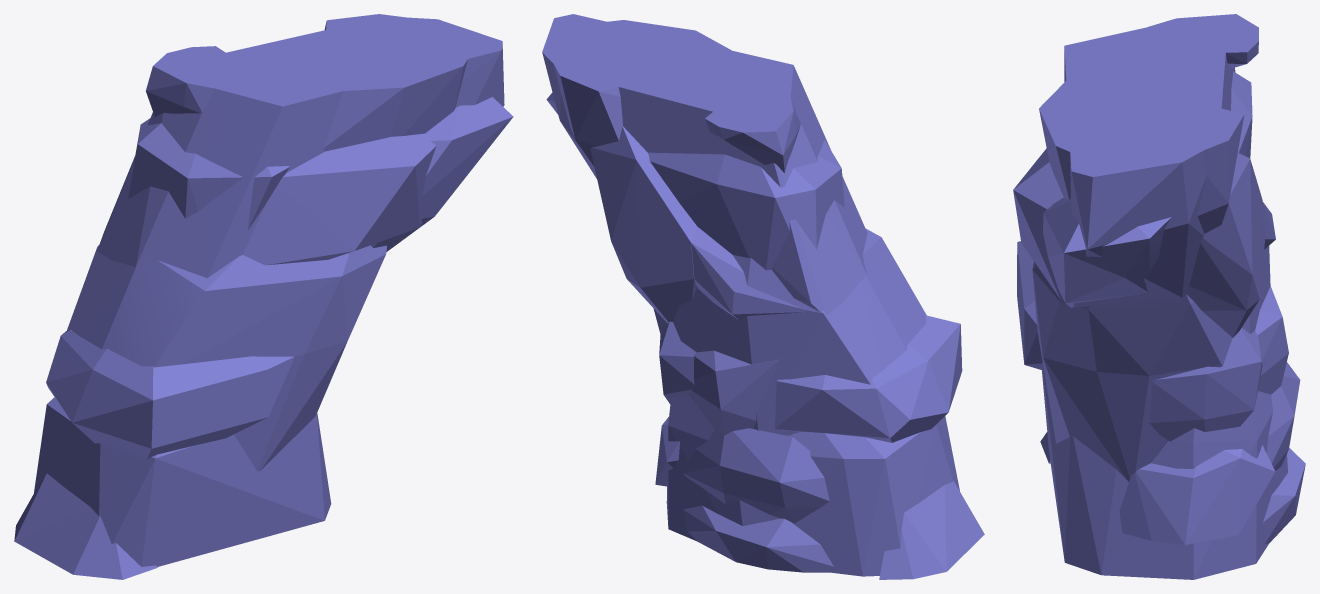
File: Cliff_Plateau_03_Arch_Collider_01.FBX
The picture shows the model from 3 angles, left to right: view 1: azimuth 30°, elevation 25°; view 2: azimuth 150°, elevation 25°; view 3: azimuth 270°, elevation 25°; orthographic projection. The views are drawn at different scales.
Visible parts, largest first — view 1: COLLIDER3, COLLIDER11, COLLIDER2, COLLIDER1, COLLIDER9, COLLIDER5, COLLIDER15, COLLIDER4, COLLIDER10, COLLIDER18, COLLIDER8; view 2: COLLIDER3, COLLIDER2, COLLIDER11, COLLIDER4, COLLIDER1, COLLIDER7, COLLIDER14, COLLIDER5, COLLIDER15, COLLIDER12, COLLIDER13, COLLIDER17 (+3 smaller); view 3: COLLIDER3, COLLIDER2, COLLIDER11, COLLIDER6, COLLIDER5, COLLIDER18, COLLIDER7, COLLIDER10, COLLIDER16, COLLIDER9, COLLIDER13, COLLIDER1 (+5 smaller).
Part boxes in pixels (box(x1,y1,x2,y2)): COLLIDER3: box(97, 16, 504, 278); COLLIDER11: box(66, 244, 386, 367); COLLIDER2: box(34, 397, 331, 566); COLLIDER1: box(46, 330, 294, 459); COLLIDER9: box(243, 133, 436, 265); COLLIDER5: box(323, 14, 469, 151); COLLIDER15: box(14, 473, 157, 579); COLLIDER4: box(128, 118, 289, 230); COLLIDER10: box(371, 97, 513, 251); COLLIDER18: box(234, 341, 346, 471); COLLIDER8: box(146, 46, 225, 116); COLLIDER3: box(542, 14, 867, 315); COLLIDER2: box(666, 395, 959, 576); COLLIDER11: box(653, 229, 926, 435); COLLIDER4: box(648, 140, 844, 270); COLLIDER1: box(775, 315, 962, 442); COLLIDER7: box(590, 126, 697, 323); COLLIDER14: box(683, 428, 829, 523); COLLIDER5: box(550, 20, 731, 166); COLLIDER15: box(879, 480, 984, 579); COLLIDER12: box(683, 505, 833, 572); COLLIDER13: box(688, 350, 779, 435); COLLIDER17: box(691, 227, 806, 320); COLLIDER3: box(1064, 23, 1235, 307); COLLIDER2: box(1042, 370, 1287, 579); COLLIDER11: box(1032, 246, 1270, 375); COLLIDER6: box(1119, 445, 1275, 544); COLLIDER5: box(1039, 81, 1244, 233); COLLIDER18: box(1038, 336, 1222, 481); COLLIDER7: box(1187, 153, 1265, 337); COLLIDER10: box(1043, 197, 1171, 307); COLLIDER16: box(1149, 328, 1262, 441); COLLIDER9: box(1013, 148, 1063, 299); COLLIDER13: box(1255, 286, 1288, 394); COLLIDER1: box(1017, 241, 1043, 370).
Size of the model in its own units: 732 by 669 by 360.
